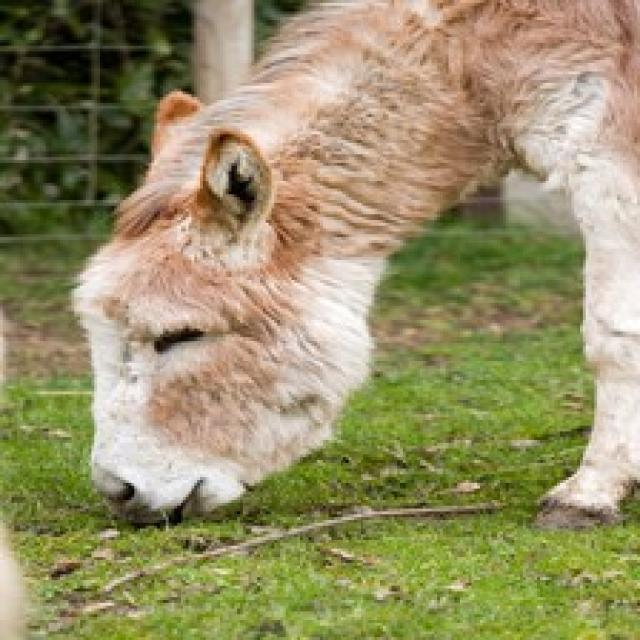Donkey: (51, 0, 640, 629)
